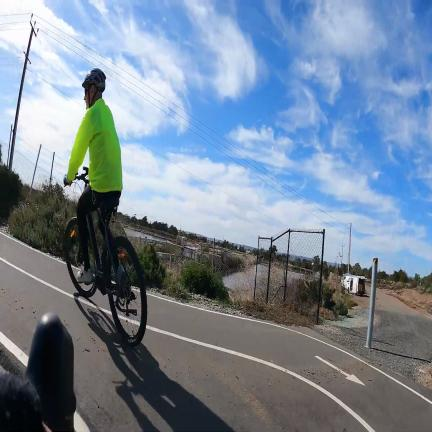Bike_Lane: (0, 238, 432, 432)
